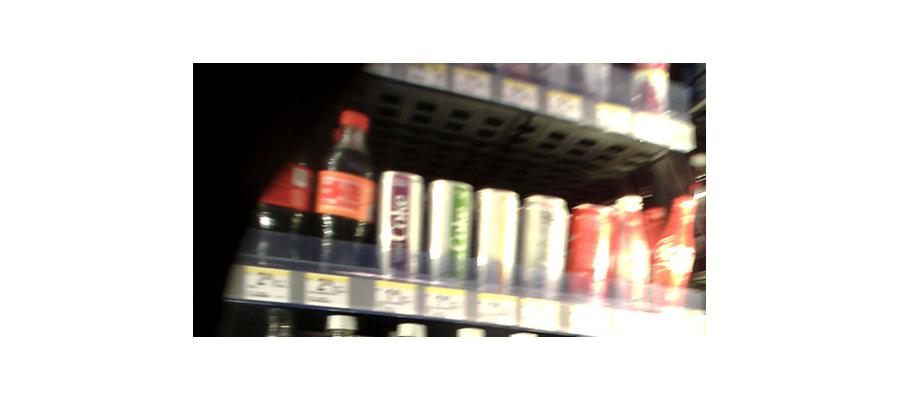bottle: (320, 104, 373, 270), (651, 191, 698, 308), (377, 168, 425, 279), (611, 185, 649, 308), (524, 193, 566, 299), (478, 184, 519, 292), (570, 198, 610, 307), (431, 178, 471, 287)
